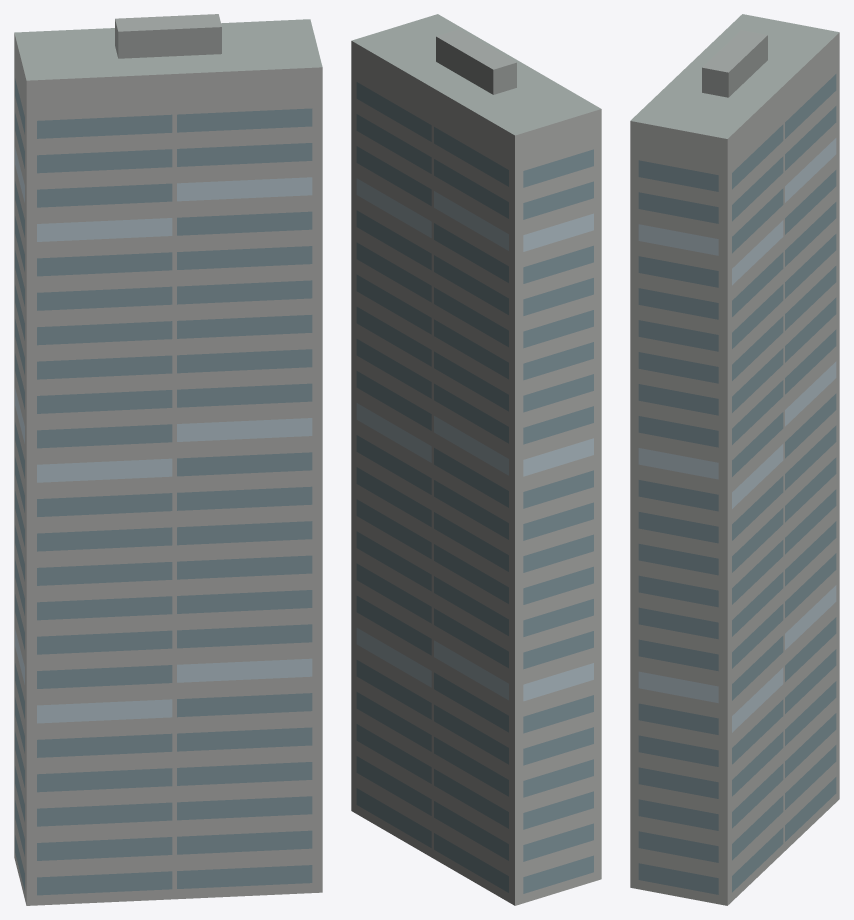
Rendered from fallback-olympic-athletes-village-252.glb.
3 views of the same model, side by side, from view 1: azimuth 30°, elevation 25°; view 2: azimuth 150°, elevation 25°; view 3: azimuth 270°, elevation 25° (orthographic). The views are drawn at different scales.
Parts seen in each view (by area): view 1: fallback-olympic-athletes-village-252; view 2: fallback-olympic-athletes-village-252; view 3: fallback-olympic-athletes-village-252.
Boxes of the visible parts, box(x1,y1,x2,y2) form: fallback-olympic-athletes-village-252: box(14, 14, 322, 905); fallback-olympic-athletes-village-252: box(351, 14, 601, 905); fallback-olympic-athletes-village-252: box(630, 14, 839, 905).
Bounding box in the file's own units: 25.61 × 75.6 × 18.13.
